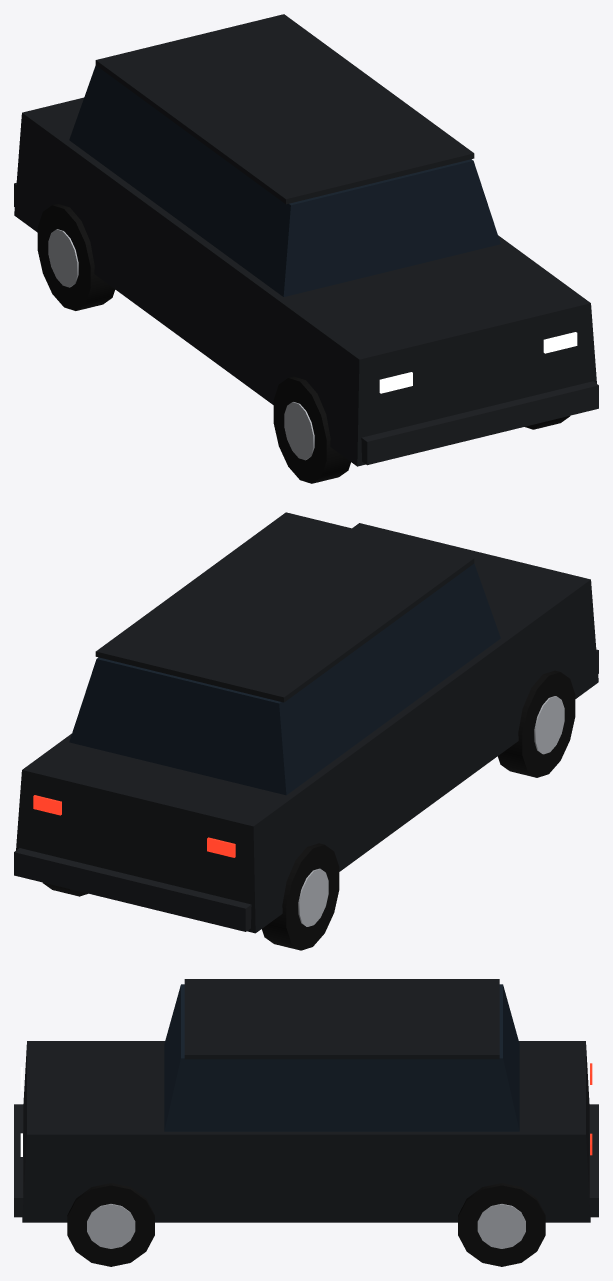
File: suv-0.glb
3 renders of one model, top to bottom at view 1: azimuth 30°, elevation 25°; view 2: azimuth 150°, elevation 25°; view 3: azimuth 270°, elevation 25°, orthographic. The views are drawn at different scales.
Size of the model in its own units: 2.03 by 1.86 by 4.94.
